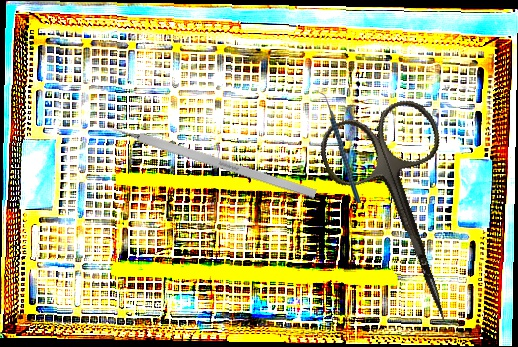Chopper: (312, 90, 365, 204)
Hook Surgical: (96, 118, 317, 200)
Iris Scissors: (313, 92, 498, 342)
